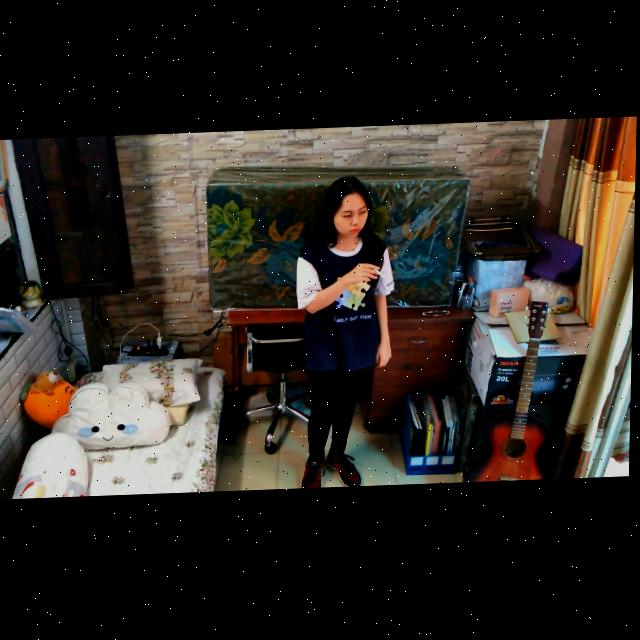cigarette: (375, 272, 389, 282)
